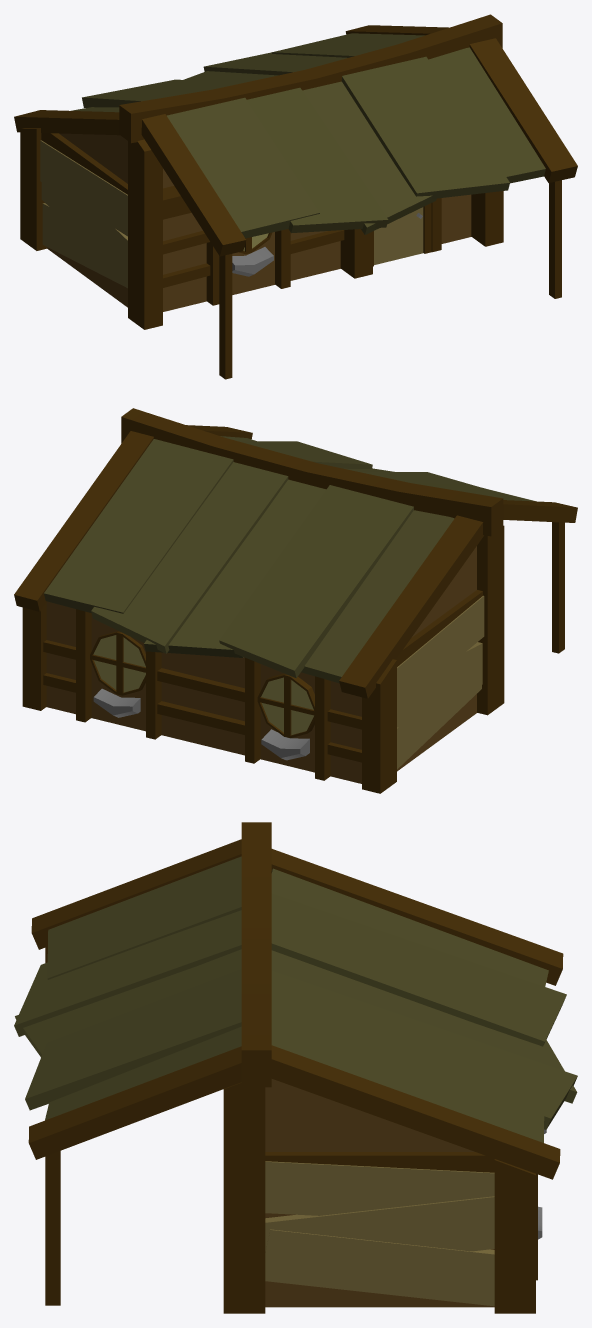
Rendered from Mesh_Farm_Ravander2.fbx.
The picture shows the model from 3 angles, top to bottom: view 1: azimuth 30°, elevation 25°; view 2: azimuth 150°, elevation 25°; view 3: azimuth 270°, elevation 25°; orthographic projection. The views are drawn at different scales.
Parts seen in each view (by area): view 1: Farm_Ravander2; view 2: Farm_Ravander2; view 3: Farm_Ravander2.
Boxes of the visible parts, x1,y1,x2,y2 form: Farm_Ravander2: [14, 14, 577, 379]; Farm_Ravander2: [14, 408, 577, 793]; Farm_Ravander2: [14, 822, 577, 1313].
Size of the model in its own units: 954 by 523 by 998.
1 material, 1 textured.
